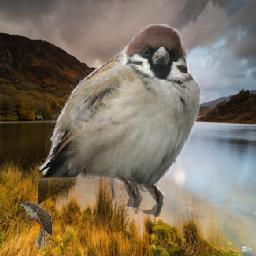Cuckoo: (18, 201, 53, 249)
Sparrow: (38, 25, 200, 218)
